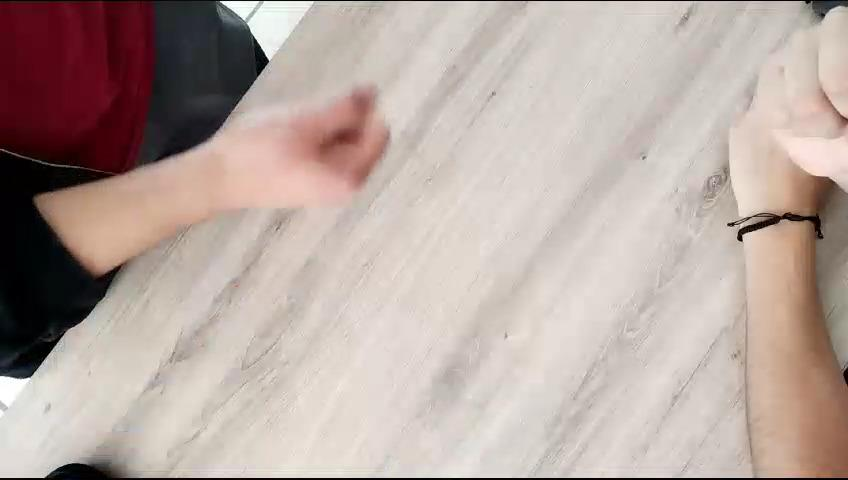Stone: (189, 81, 455, 232)
